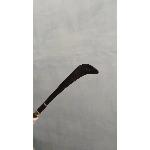Golok: (33, 62, 103, 118)
